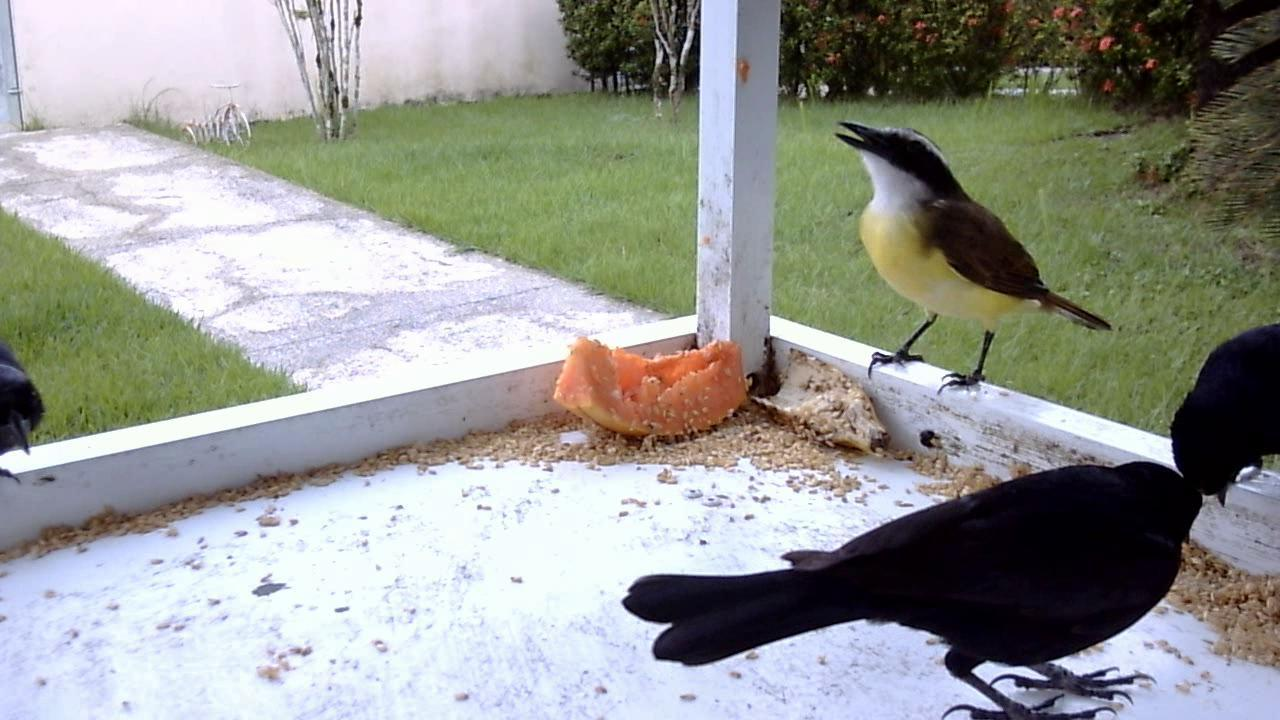bem_te_vi: (816, 107, 1125, 415)
chupim: (619, 398, 1209, 720), (1155, 313, 1273, 519), (1, 307, 52, 488)
